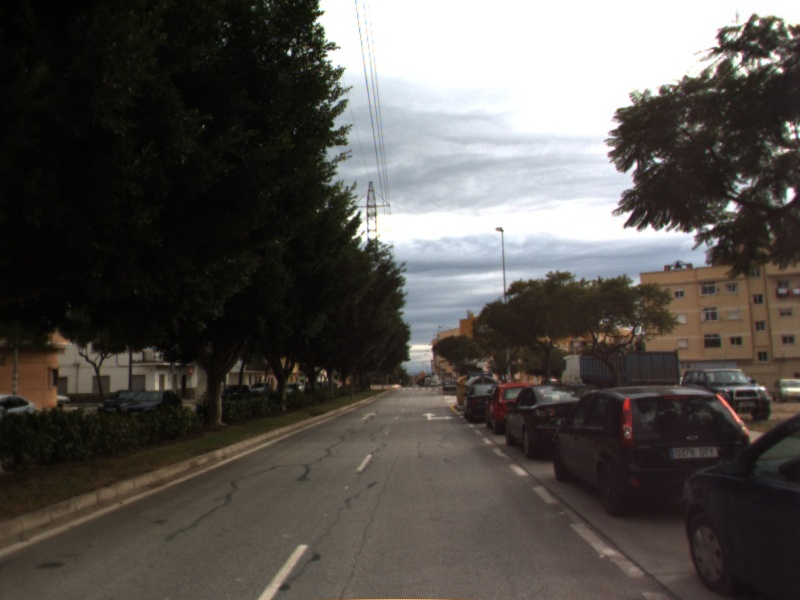STRAIGHT: (358, 409, 380, 422)
STRAIGHT_RIGHT: (419, 410, 456, 423)
